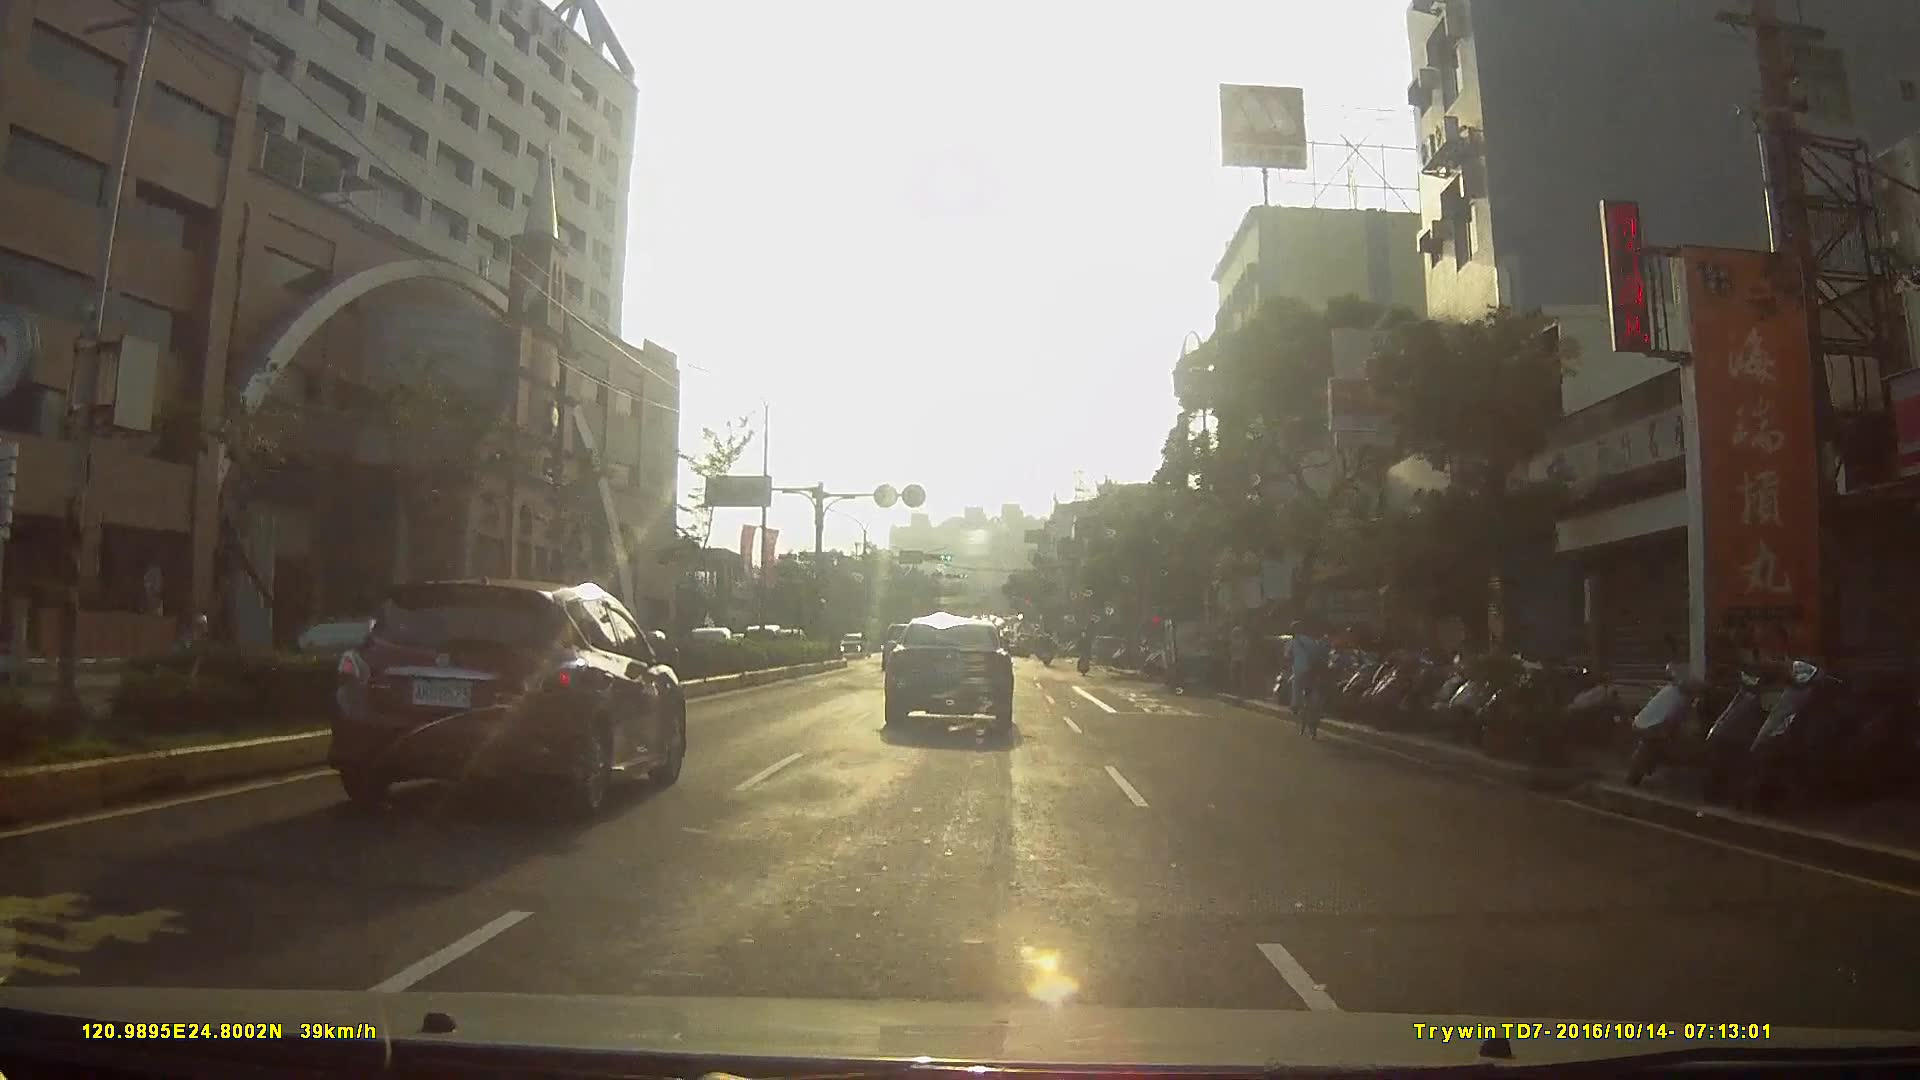rider: (1280, 618, 1331, 741)
vehicle: (325, 570, 699, 818), (878, 611, 1028, 741), (1157, 609, 1234, 688), (763, 607, 822, 662)
